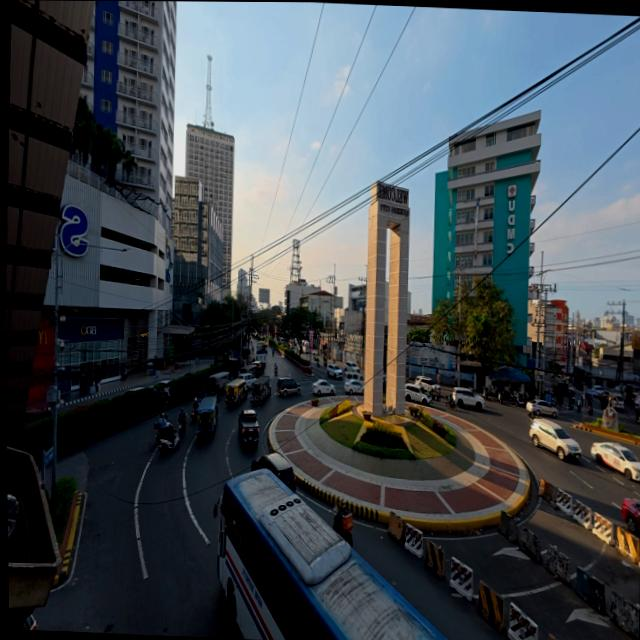Jeepneys: (196, 395, 217, 439), (225, 379, 245, 408), (250, 376, 270, 405), (207, 372, 229, 397)
bus: (214, 470, 445, 639), (255, 341, 267, 361)
car: (529, 419, 580, 460), (591, 441, 639, 481), (250, 453, 294, 490), (452, 387, 484, 409), (621, 499, 639, 534), (526, 399, 557, 418), (405, 383, 431, 404), (276, 377, 300, 396), (312, 379, 334, 395), (25, 408, 50, 422), (344, 379, 363, 395), (414, 376, 433, 391), (238, 374, 256, 389), (153, 380, 169, 396), (326, 363, 342, 379), (22, 614, 36, 629), (344, 360, 360, 372), (123, 386, 144, 394), (592, 385, 604, 398), (634, 406, 639, 423), (639, 415, 640, 430)
motorcycle: (332, 508, 352, 546), (159, 427, 179, 453), (497, 389, 511, 404), (178, 414, 185, 436), (446, 394, 456, 409), (431, 385, 440, 401), (514, 392, 524, 406), (482, 387, 493, 399), (526, 409, 535, 421), (568, 397, 573, 410), (587, 403, 592, 415), (576, 400, 580, 412), (273, 367, 277, 376)
trucks: (237, 410, 258, 445)
vans: (344, 372, 364, 384), (609, 394, 623, 411)
